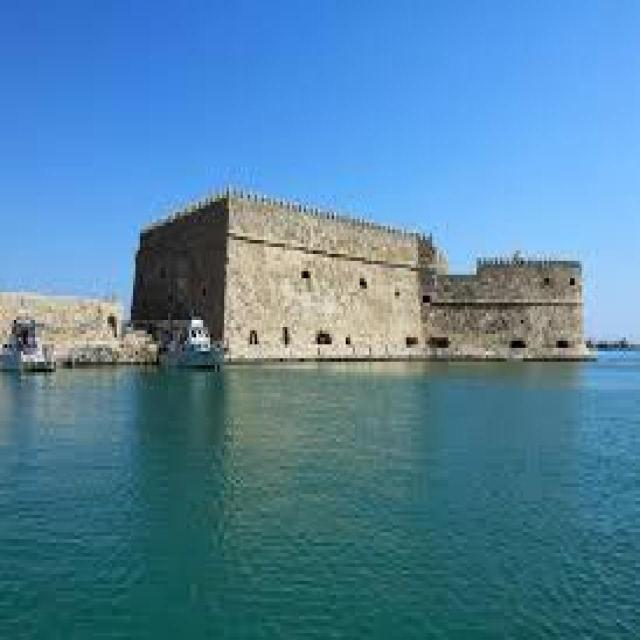Kules: (130, 195, 602, 365)
